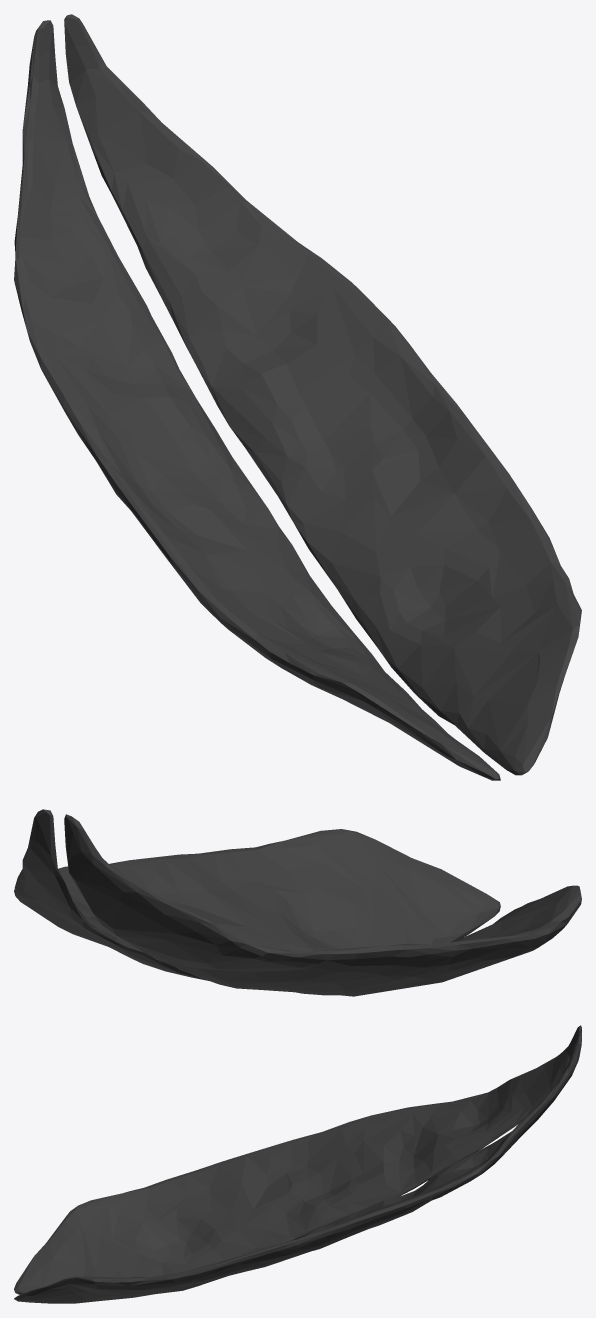
File: aponeurosis_IAO.glb
The picture shows the model from 3 angles, top to bottom: view 1: azimuth 30°, elevation 25°; view 2: azimuth 150°, elevation 25°; view 3: azimuth 270°, elevation 25°; orthographic projection. The views are drawn at different scales.
Visible parts, largest first — view 1: aponeurosis_IAO; view 2: aponeurosis_IAO; view 3: aponeurosis_IAO.
Boxes of the visible parts, box(x1,y1,x2,y2) form: aponeurosis_IAO: box(14, 14, 581, 780); aponeurosis_IAO: box(14, 809, 581, 996); aponeurosis_IAO: box(14, 1025, 581, 1303).
Size of the model in its own units: 0.00446 by 0.00539 by 0.0103.
1 material, 1 textured.
